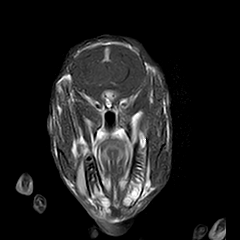Brain: (58, 15, 157, 113)
